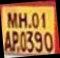character: (43, 31, 54, 53), (34, 31, 43, 53), (7, 12, 18, 29), (4, 30, 12, 52), (26, 30, 34, 52), (11, 31, 19, 52), (19, 31, 27, 52), (19, 12, 28, 29), (31, 12, 40, 28), (40, 12, 47, 29)
